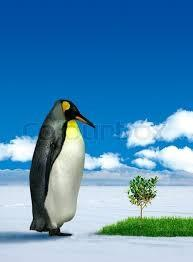king: (16, 86, 110, 235)
